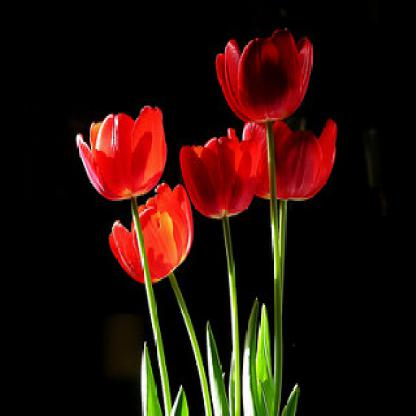TULIP: (53, 22, 355, 308)
